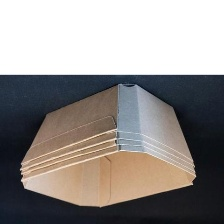book: (15, 78, 201, 213)
